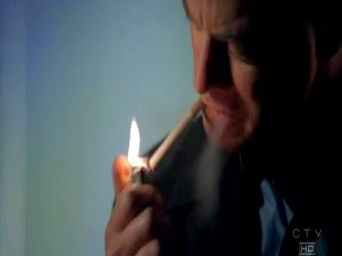smoke: (149, 99, 205, 166)
